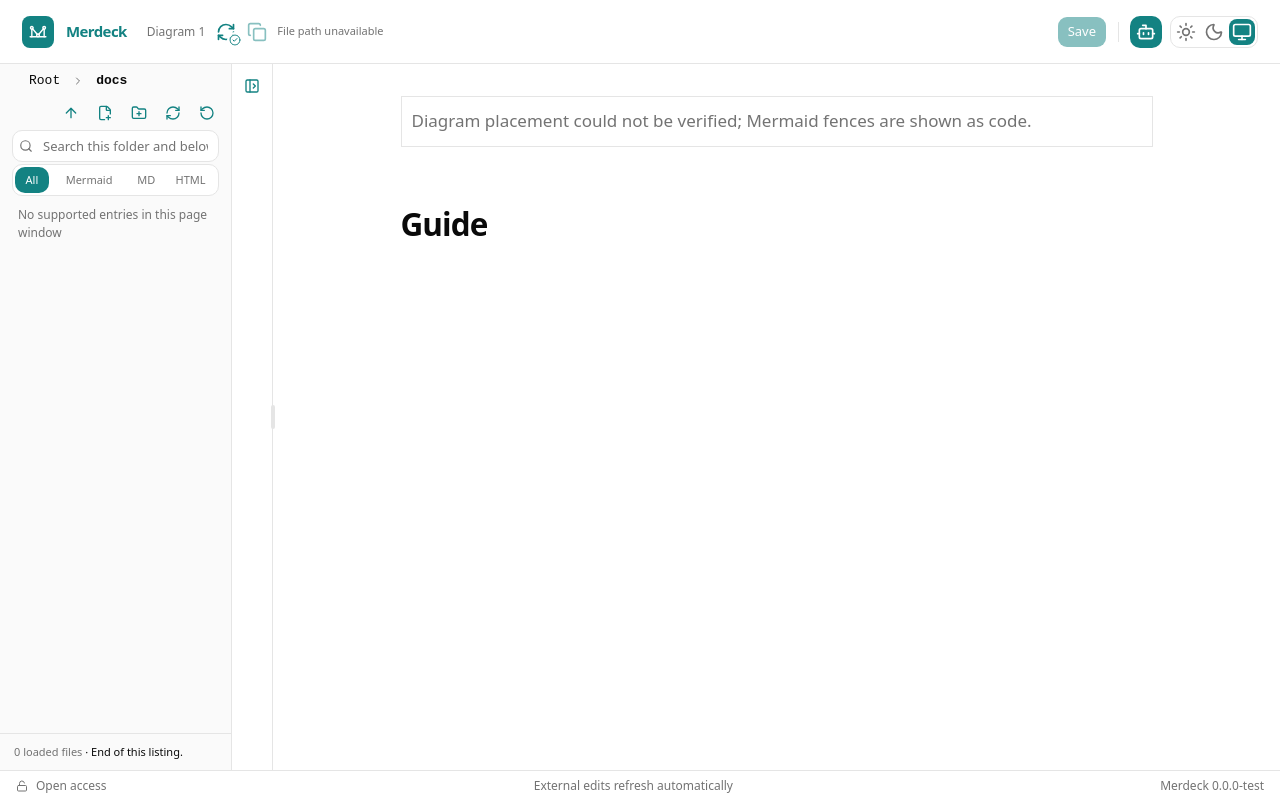
Scenario: retries an unavailable file location when the existing refresh control is used
Expected: the button named "Copy absolute path" is disabled, [241,16,273,48]
Step 1. Click the button named "Refresh files" → (173, 113), box [157,97,189,129]
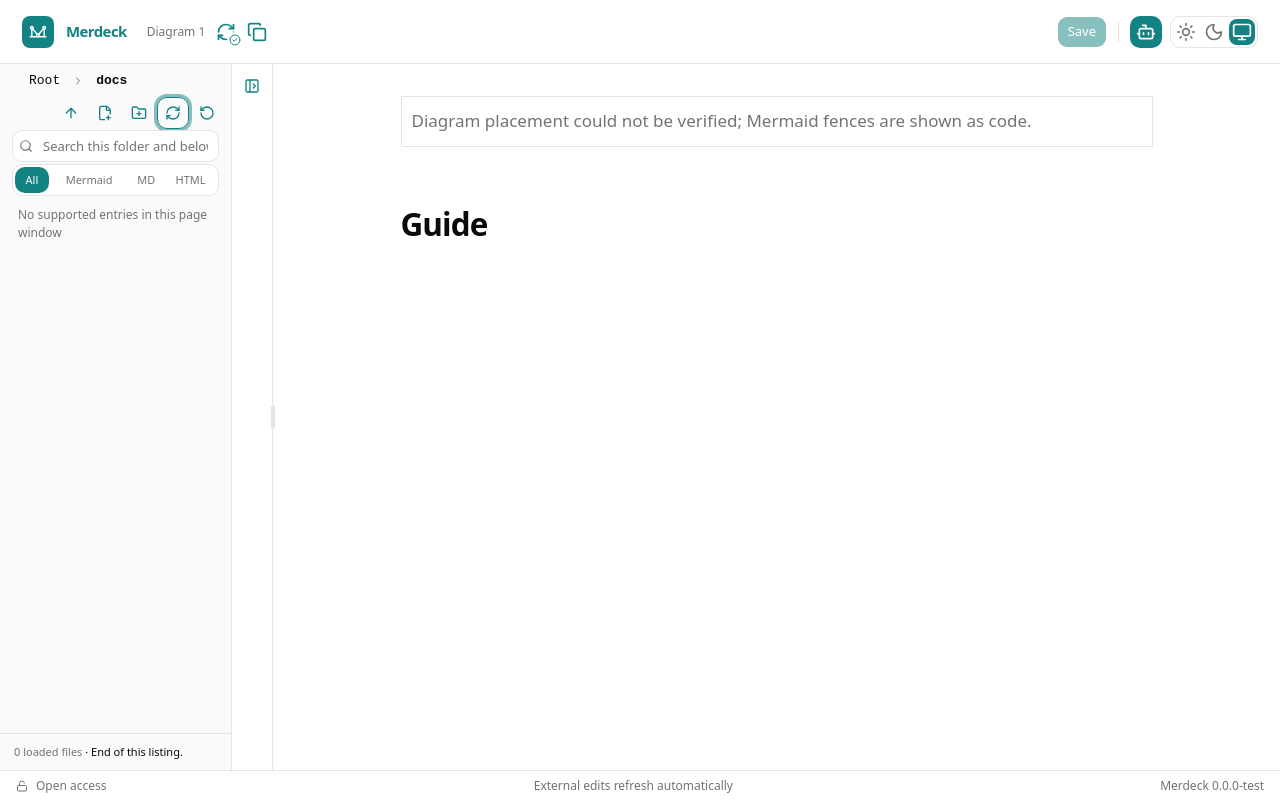
Expected: the button named "Copy absolute path" is enabled, [241,16,273,48]
